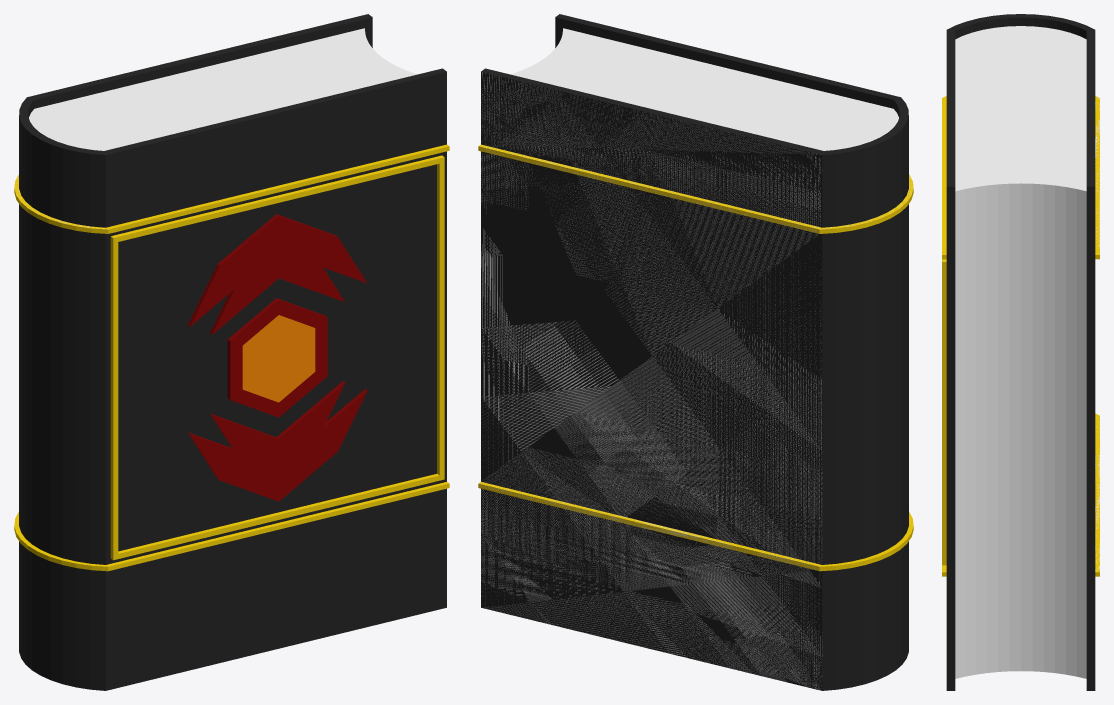
3 renders of one model, left to right at view 1: azimuth 30°, elevation 25°; view 2: azimuth 150°, elevation 25°; view 3: azimuth 270°, elevation 25°, orthographic. The views are drawn at different scales.
Visible parts, largest first — view 1: old book; view 2: old book; view 3: old book.
Boxes of the visible parts, x1,y1,x2,y2 form: old book: (14, 14, 449, 690); old book: (478, 14, 913, 690); old book: (942, 14, 1099, 690).
Size of the model in its own units: 8.76 by 11.81 by 3.35.
